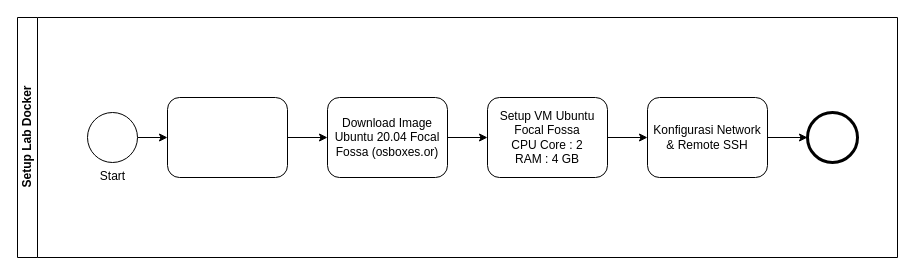
This 915x275 diagram has some shape labels left out. The shapes that lost their labels are listed below. From the top down, each one's centre as x and y in pixels, then its label:
At (x=227, y=137): "Download Instalasi VirtualBox".
At (x=832, y=137): "End".
